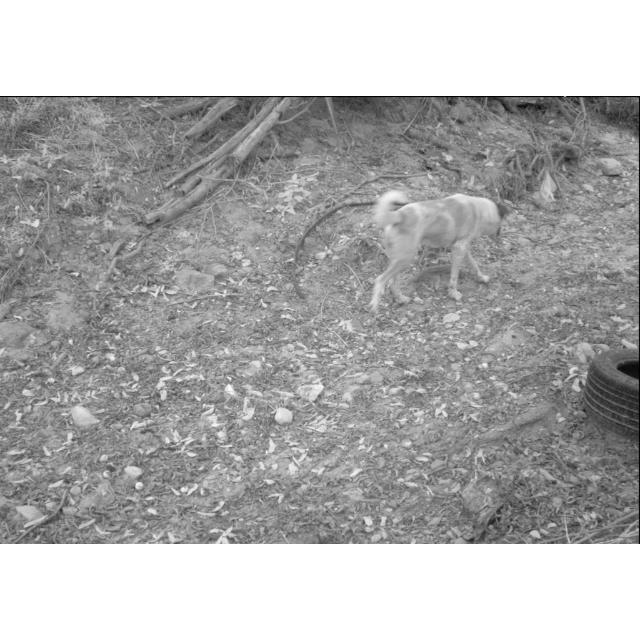animals: (372, 184, 508, 310)
